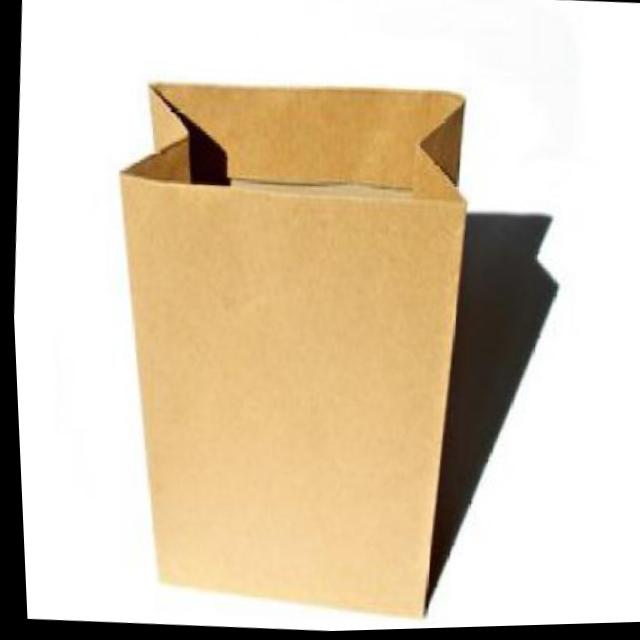box: (76, 51, 495, 628)
